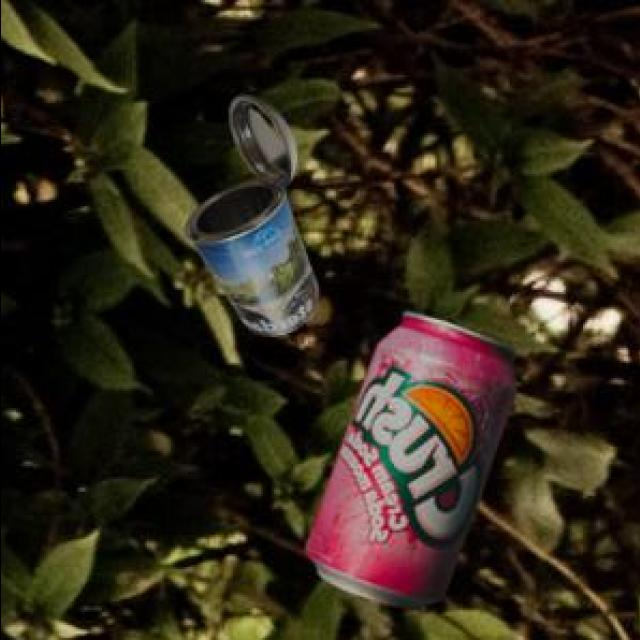logam: (302, 308, 512, 605), (181, 91, 315, 332)
